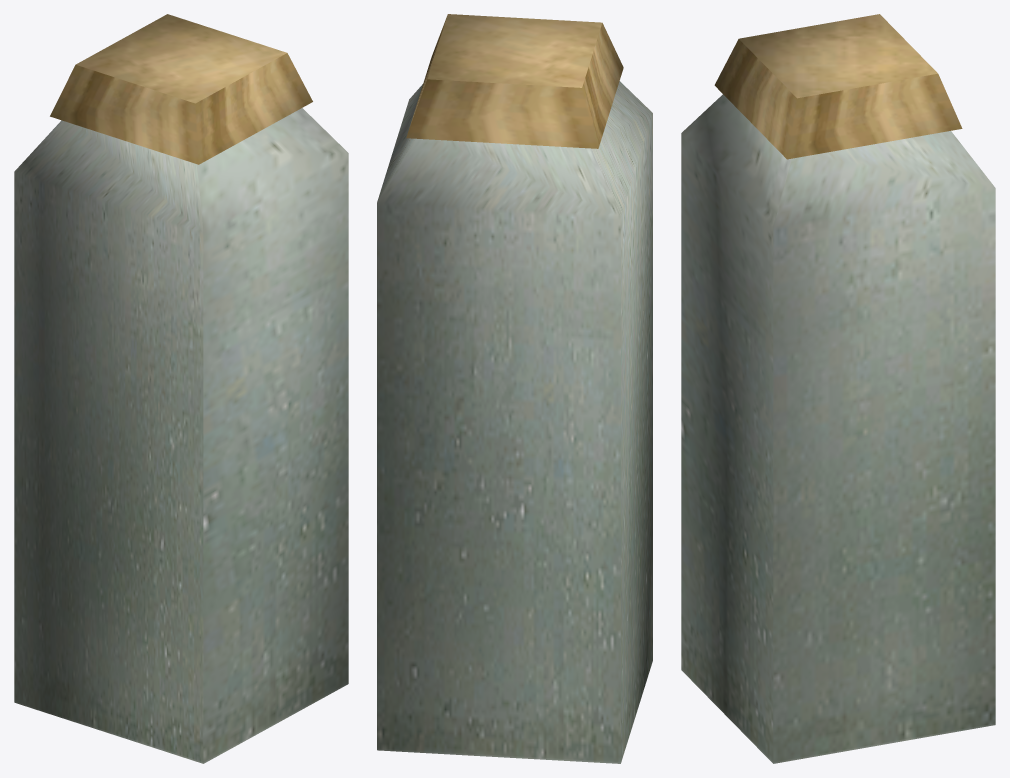
The model's file is edb_con_tato_jar_spice_s01_l2.fbx.
3 views of the same model, side by side, from view 1: azimuth 30°, elevation 25°; view 2: azimuth 150°, elevation 25°; view 3: azimuth 270°, elevation 25° (orthographic). The views are drawn at different scales.
Visible parts, largest first — view 1: mesh_node; view 2: mesh_node; view 3: mesh_node.
Part boxes in pixels (x1=…): mesh_node: x1=14, y1=14, x2=348, y2=763; mesh_node: x1=377, y1=14, x2=652, y2=763; mesh_node: x1=681, y1=14, x2=995, y2=763.
Bounding box in the file's own units: 0.126 × 0.2834 × 0.126.
3 materials, 3 textured.
